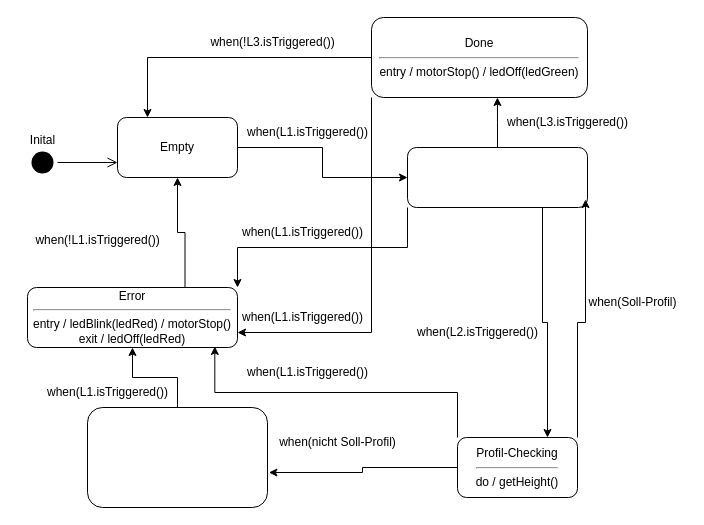
Some shapes in this 704 by 525 pixel diagram are drawn without their labels. The centre of each missing label's shape, as x and y in pixels:
Running back entry / ledBlink(ledRed) do / motorLeftMode(): the point at 177,457
Running entry / ledBlink(ledGreen) do / motorRightMode(): the point at 497,177
